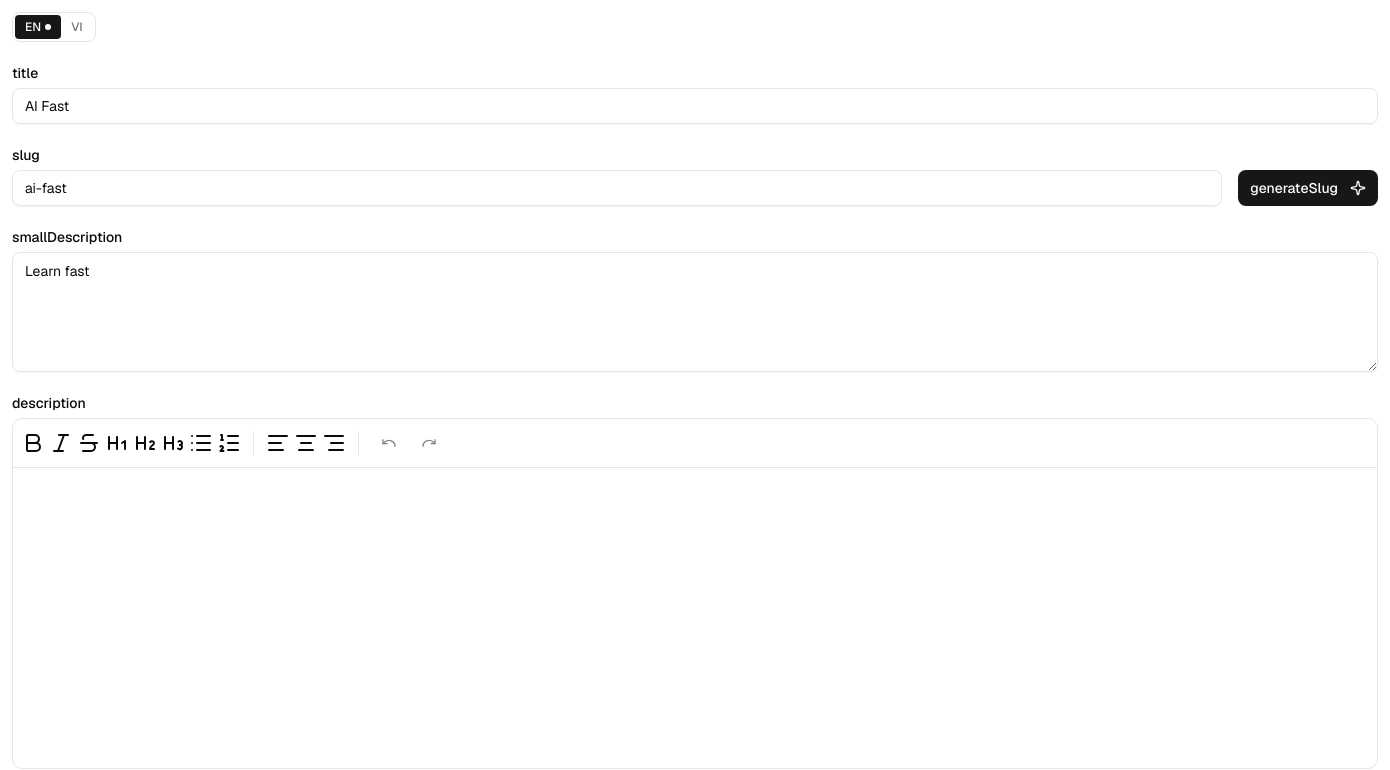
CourseTextFields › generates the slug from the Vietnamese title when there is no English title
Step 1. Clear the field with placeholder "courseTitle" → (695, 106), box [12, 88, 1378, 124]
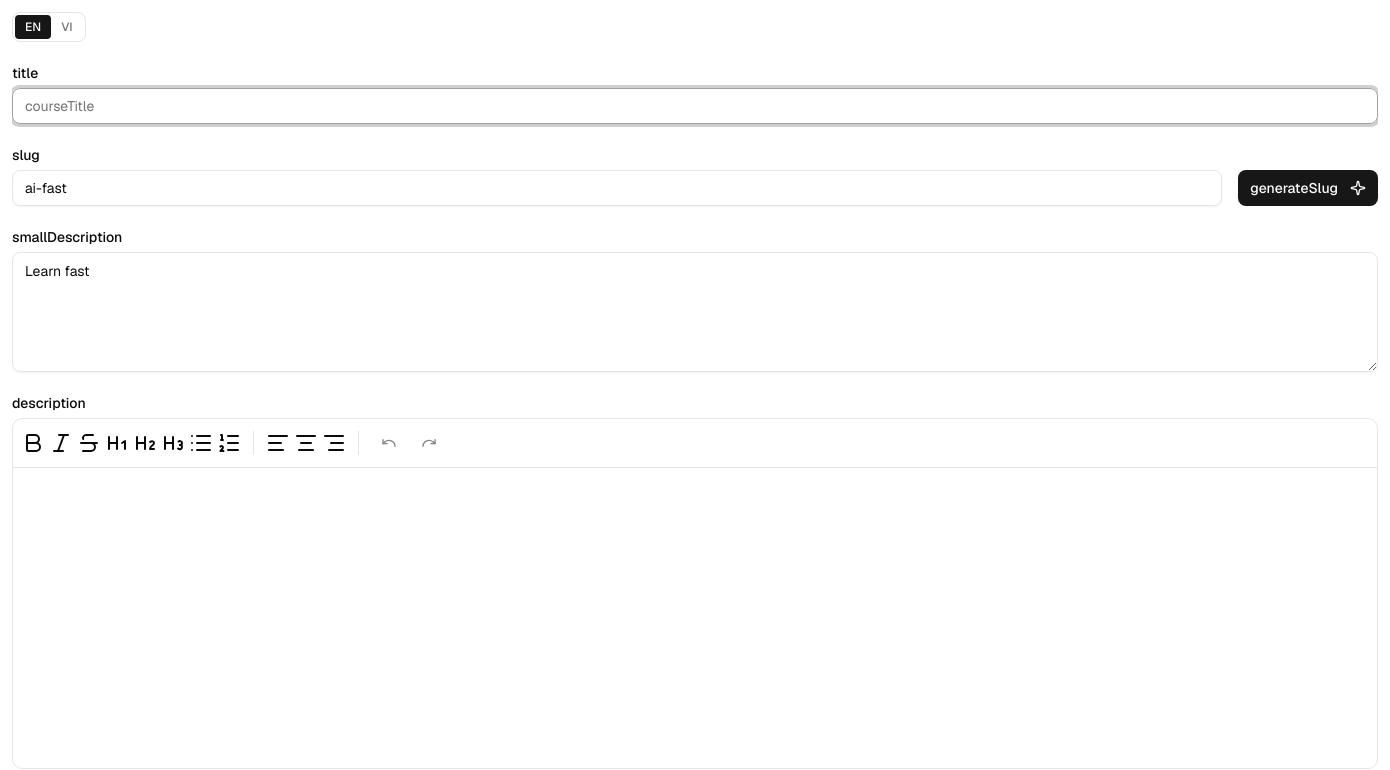
Step 2. Click the tab "VI" → (67, 27), box [51, 15, 82, 39]
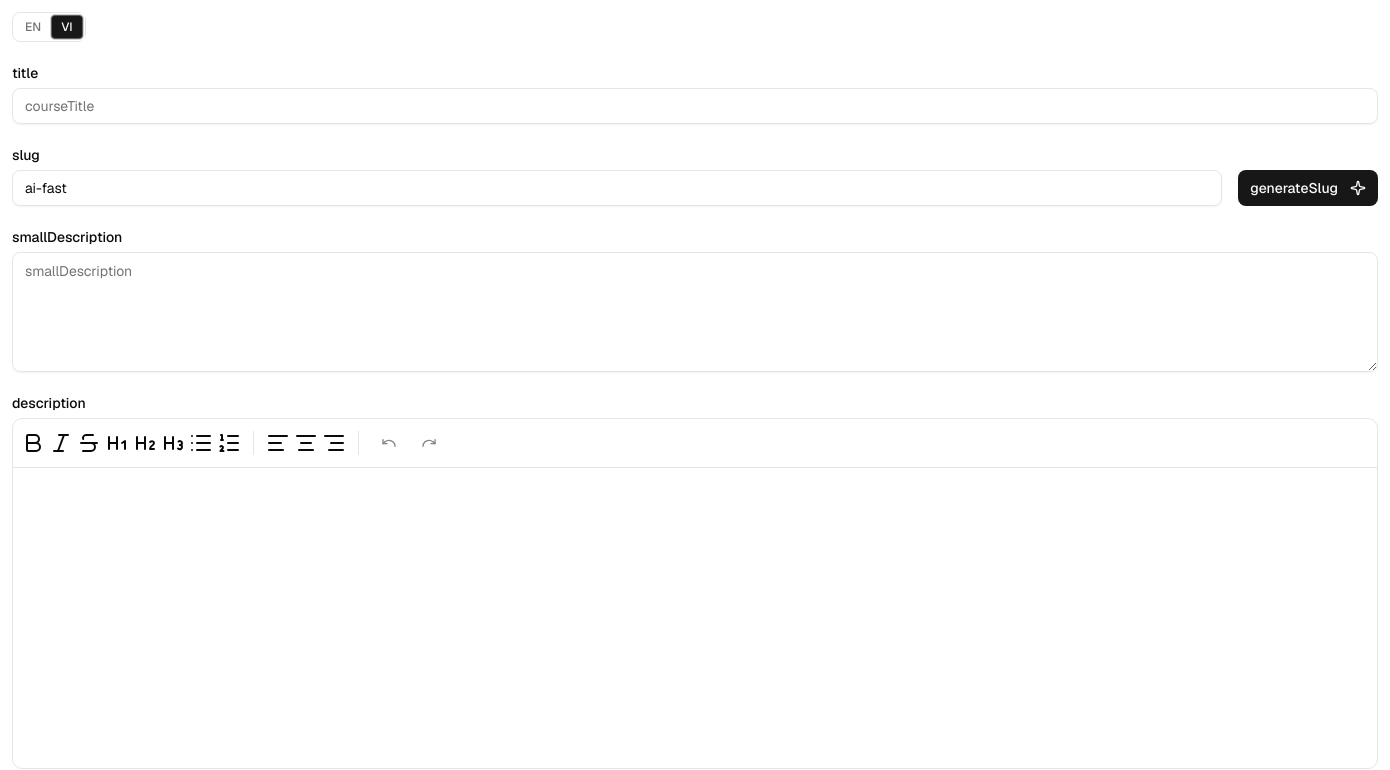
Step 3. Type "Đường đi: ưu tiên AI" into the field with placeholder "courseTitle" → (695, 106), box [12, 88, 1378, 124]
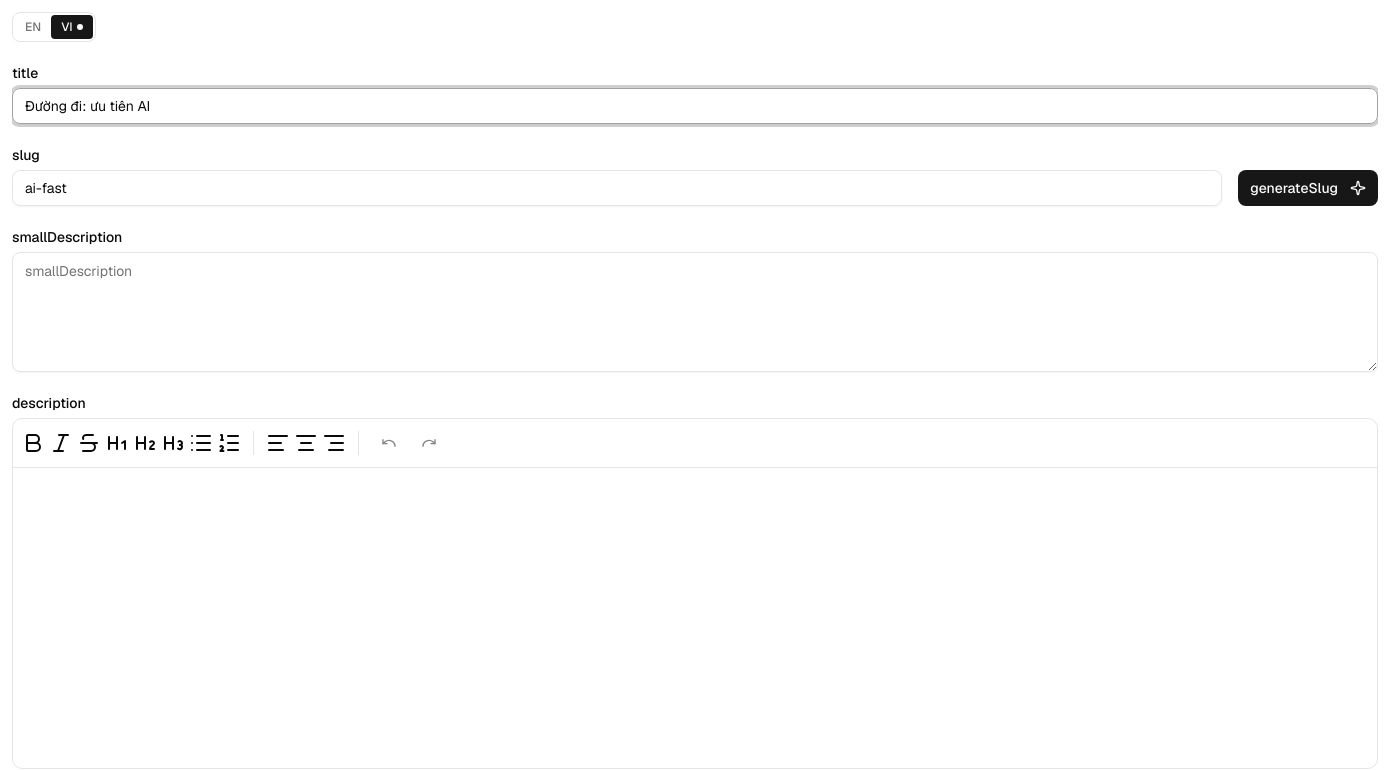
Step 4. Click the button "generateSlug" → (1308, 188), box [1238, 170, 1378, 206]
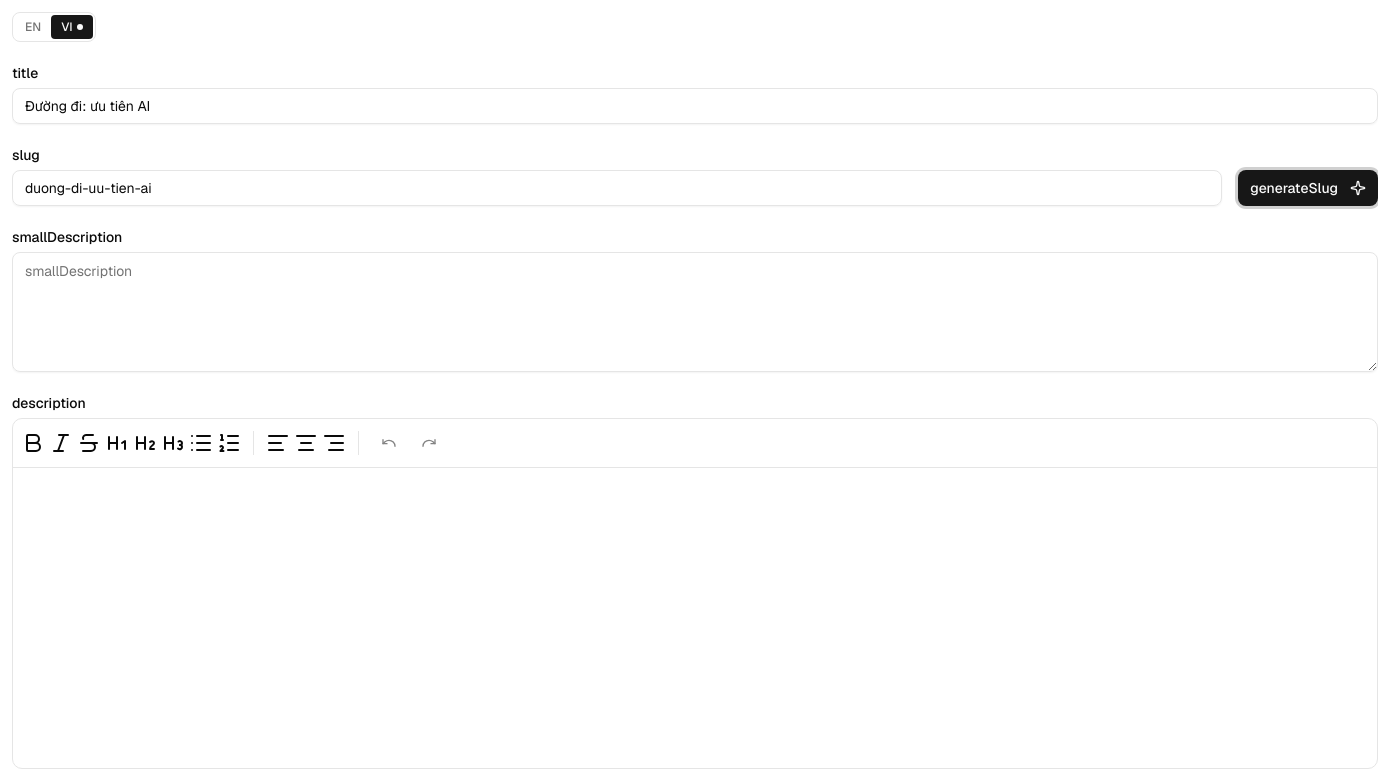
expect the field with placeholder "slug" holds "duong-di-uu-tien-ai": met, box [12, 170, 1222, 206]
